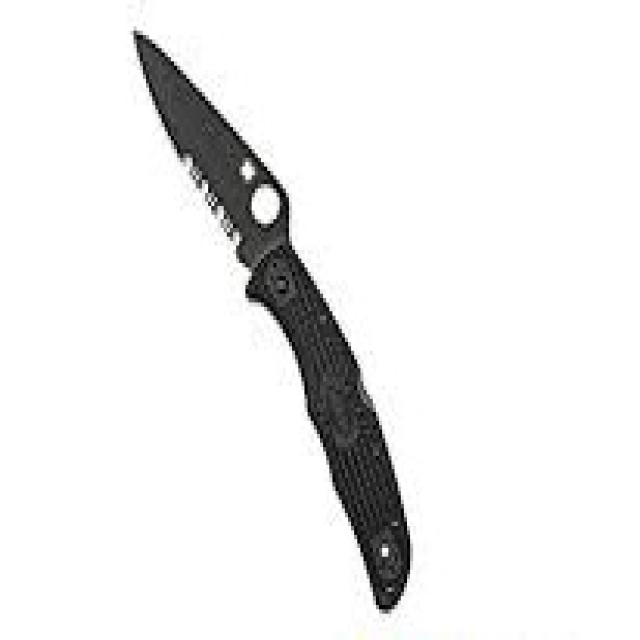knife: (133, 21, 417, 619)
